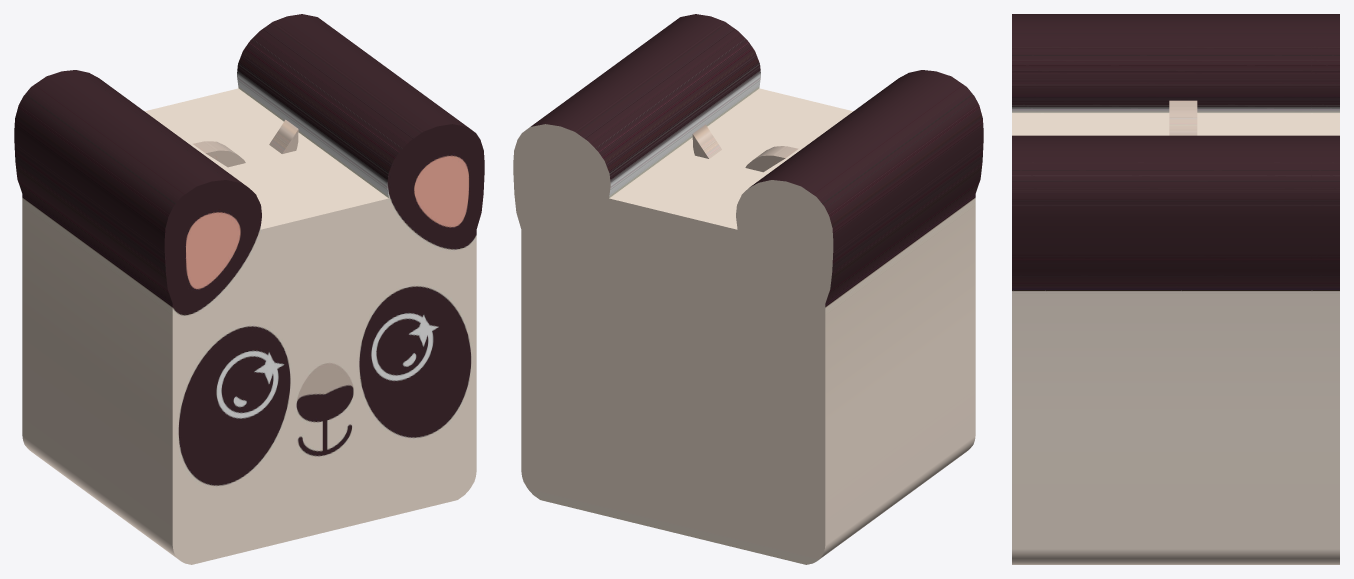
The model's file is Panda.obj.
The picture shows the model from 3 angles, left to right: view 1: azimuth 30°, elevation 25°; view 2: azimuth 150°, elevation 25°; view 3: azimuth 270°, elevation 25°; orthographic projection. The views are drawn at different scales.
Parts seen in each view (by area): view 1: Panda; view 2: Panda; view 3: Panda.
Boxes of the visible parts, x1,y1,x2,y2 form: Panda: [14, 14, 484, 564]; Panda: [513, 14, 983, 564]; Panda: [1012, 14, 1339, 564].
Bounding box in the file's own units: 5.64 × 6.38 × 4.59.
